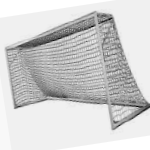goals: (4, 10, 150, 130)
